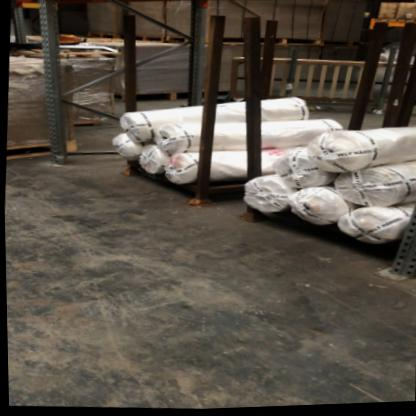vertical_damage: (377, 258, 416, 293), (46, 144, 75, 169)
